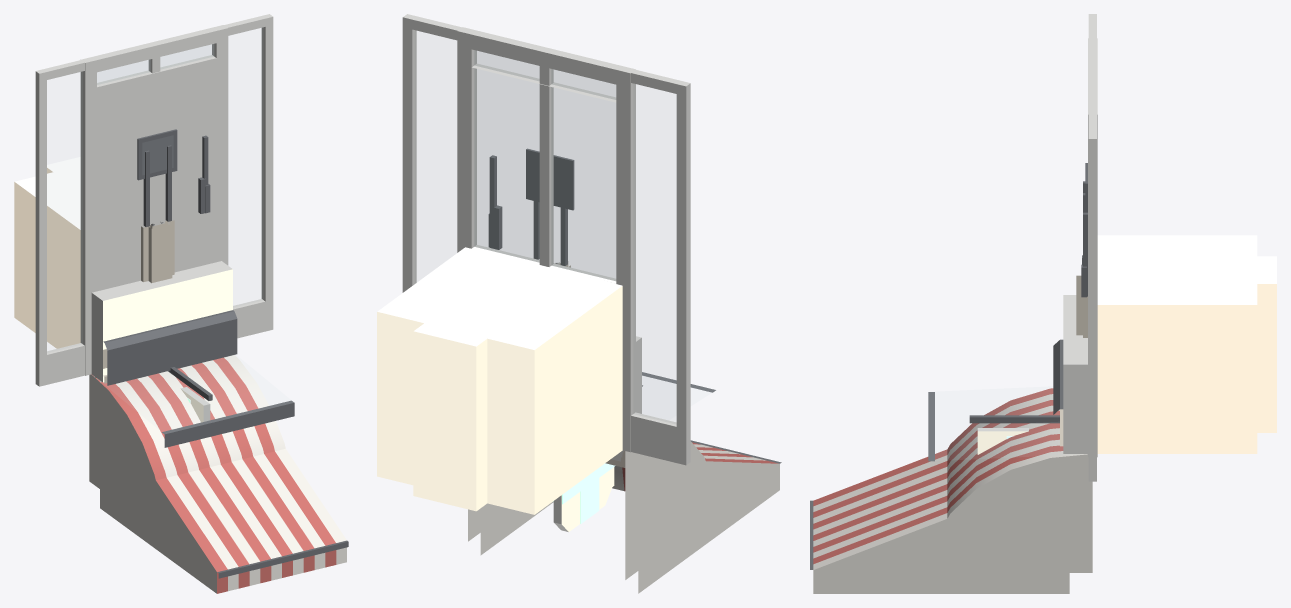
Rendered from kit-escaparate.meshopt.glb.
3 views of the same model, side by side, from view 1: azimuth 30°, elevation 25°; view 2: azimuth 150°, elevation 25°; view 3: azimuth 270°, elevation 25° (orthographic). The views are drawn at different scales.
Parts seen in each view (by area): view 1: toldo.cajon, puerta.metal_ciega, toldo.capota, puerta.doble, puerta.madera_vidrio, rotulo.cajon, persiana.cajon, caja.biselada, caja.nicho_central, caja.fondo_curvo, toldo.marquesina, marco.piedra.jamba (+3 smaller); view 2: caja.biselada, caja.nicho_central, puerta.doble, puerta.madera_vidrio, toldo.cajon, caja.recta, caja.fondo_curvo, toldo.festoneado, nicho.estantes, puerta.cristal, puerta.metal_ciega, toldo.capota (+2 smaller); view 3: caja.biselada, caja.nicho_central, toldo.capota, toldo.cajon, caja.fondo_curvo, puerta.doble, rotulo.cajon, toldo.festoneado, nicho.estantes, puerta.madera_vidrio, puerta.cristal, bandera.cartela (+2 smaller).
Boxes of the visible parts, bbox=[...] form: toldo.cajon: bbox=[100, 380, 348, 593]; puerta.metal_ciega: bbox=[91, 55, 221, 292]; toldo.capota: bbox=[89, 355, 285, 520]; puerta.doble: bbox=[35, 14, 273, 386]; puerta.madera_vidrio: bbox=[80, 25, 228, 375]; rotulo.cajon: bbox=[91, 261, 232, 382]; persiana.cajon: bbox=[103, 310, 237, 385]; caja.biselada: bbox=[28, 167, 80, 348]; caja.nicho_central: bbox=[14, 157, 80, 347]; caja.fondo_curvo: bbox=[28, 165, 80, 348]; toldo.marquesina: bbox=[162, 400, 294, 447]; marco.piedra.jamba: bbox=[141, 220, 174, 283]; caja.biselada: bbox=[393, 247, 622, 510]; caja.nicho_central: bbox=[377, 247, 622, 514]; puerta.doble: bbox=[402, 14, 690, 465]; puerta.madera_vidrio: bbox=[457, 27, 635, 452]; toldo.cajon: bbox=[480, 440, 781, 593]; caja.recta: bbox=[377, 247, 618, 513]; caja.fondo_curvo: bbox=[444, 247, 622, 502]; toldo.festoneado: bbox=[468, 451, 725, 579]; nicho.estantes: bbox=[454, 247, 622, 462]; puerta.cristal: bbox=[458, 27, 635, 415]; puerta.metal_ciega: bbox=[472, 63, 616, 249]; toldo.capota: bbox=[468, 441, 708, 579]; caja.biselada: bbox=[1097, 235, 1257, 453]; caja.nicho_central: bbox=[1097, 235, 1276, 453]; toldo.capota: bbox=[928, 388, 1092, 572]; toldo.cajon: bbox=[810, 449, 1069, 593]; caja.fondo_curvo: bbox=[1097, 235, 1244, 453]; puerta.doble: bbox=[1083, 14, 1096, 481]; rotulo.cajon: bbox=[1063, 295, 1087, 453]; toldo.festoneado: bbox=[912, 458, 1092, 572]; nicho.estantes: bbox=[1097, 236, 1128, 453]; puerta.madera_vidrio: bbox=[1081, 38, 1097, 457]; puerta.cristal: bbox=[1083, 38, 1096, 296]; bandera.cartela: bbox=[969, 415, 1059, 452].
Size of the model in its own units: 1.8 by 3.24 by 2.84.
